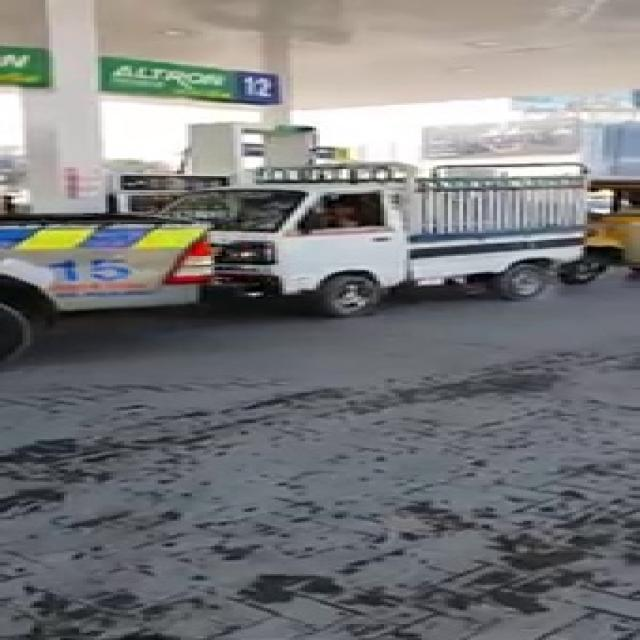police: (0, 164, 200, 384)
